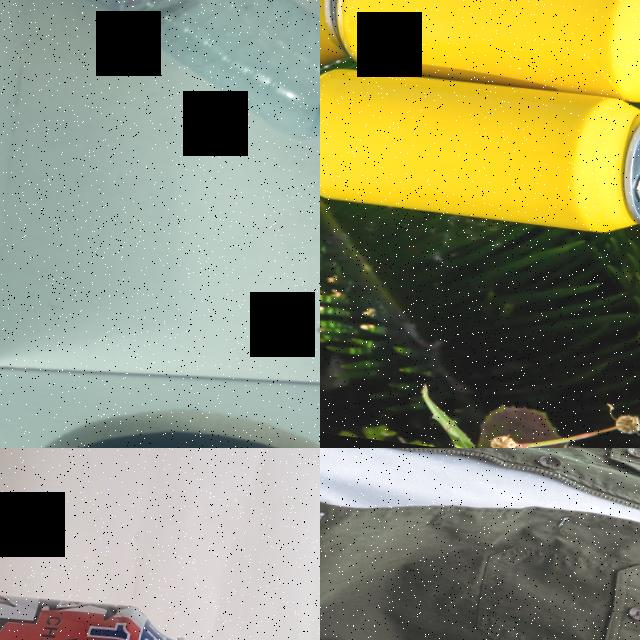bottle: (3, 0, 320, 150)
can: (320, 59, 640, 242), (320, 0, 640, 111), (0, 561, 194, 640)
